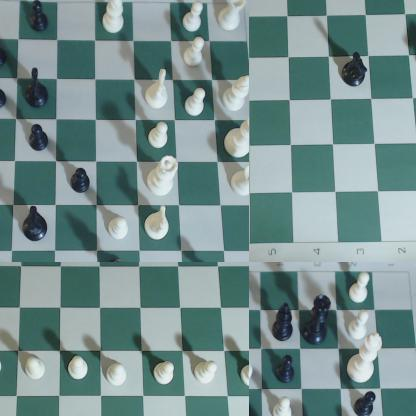black-bishop: (270, 302, 297, 347), (105, 255, 133, 262)
black-knight: (19, 206, 49, 245), (341, 50, 370, 89), (26, 66, 51, 111)
black-pawn: (25, 1, 53, 36), (275, 356, 301, 387), (69, 160, 91, 196), (28, 123, 51, 154), (355, 388, 380, 416), (1, 79, 12, 117), (1, 36, 12, 70)
black-queen: (303, 295, 334, 347)
white-bishop: (218, 71, 249, 117), (100, 1, 130, 36), (181, 1, 206, 34)
white-king: (345, 332, 386, 387)
white-knight: (220, 112, 249, 158), (144, 66, 171, 110), (145, 205, 173, 241)
white-pawn: (191, 355, 223, 393), (20, 356, 53, 390), (64, 355, 96, 389), (147, 361, 180, 391), (104, 359, 135, 390), (349, 272, 376, 307), (347, 308, 373, 344), (183, 37, 208, 68), (185, 87, 209, 118), (147, 122, 172, 150), (110, 215, 133, 243), (237, 354, 249, 398), (273, 393, 295, 416), (1, 347, 10, 384)
white-queen: (144, 156, 182, 199)
white-rook: (217, 1, 249, 33), (230, 163, 249, 199)
